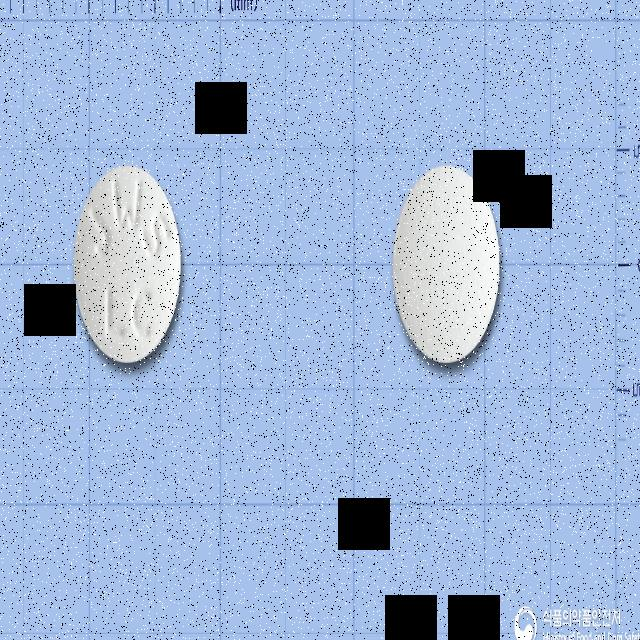Procin Tab: (74, 166, 181, 365)
